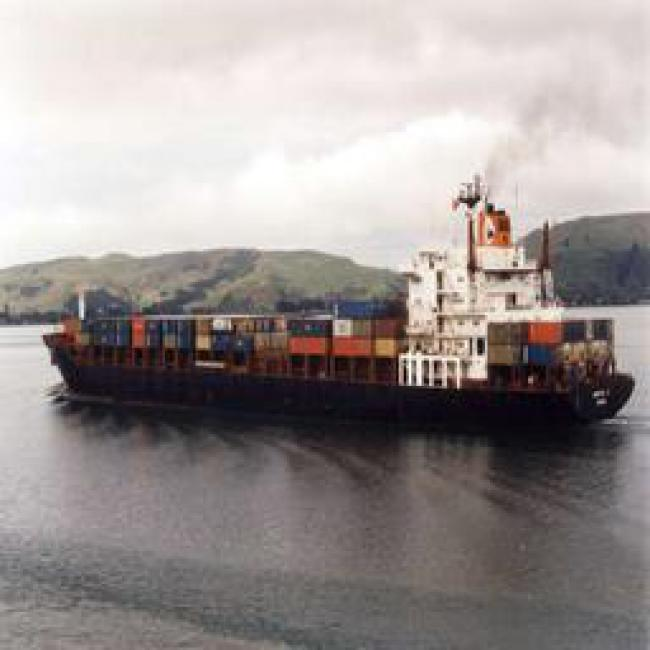Ship: (20, 253, 635, 432)
